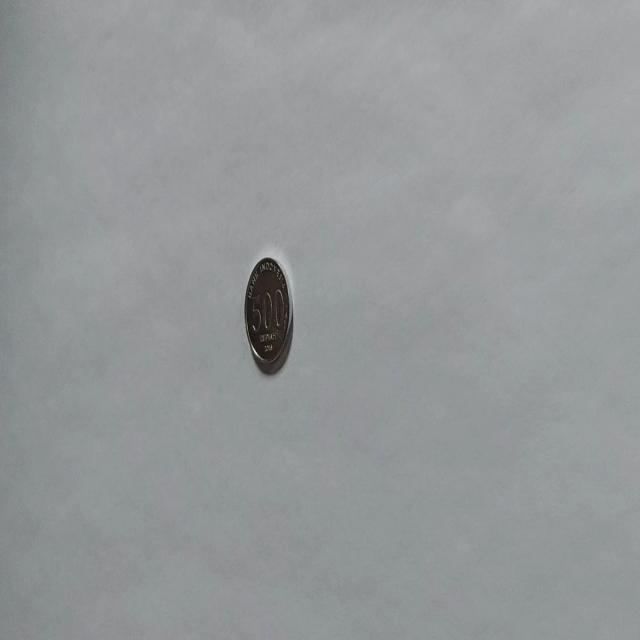lima ratus rupiah: (243, 255, 293, 374)
